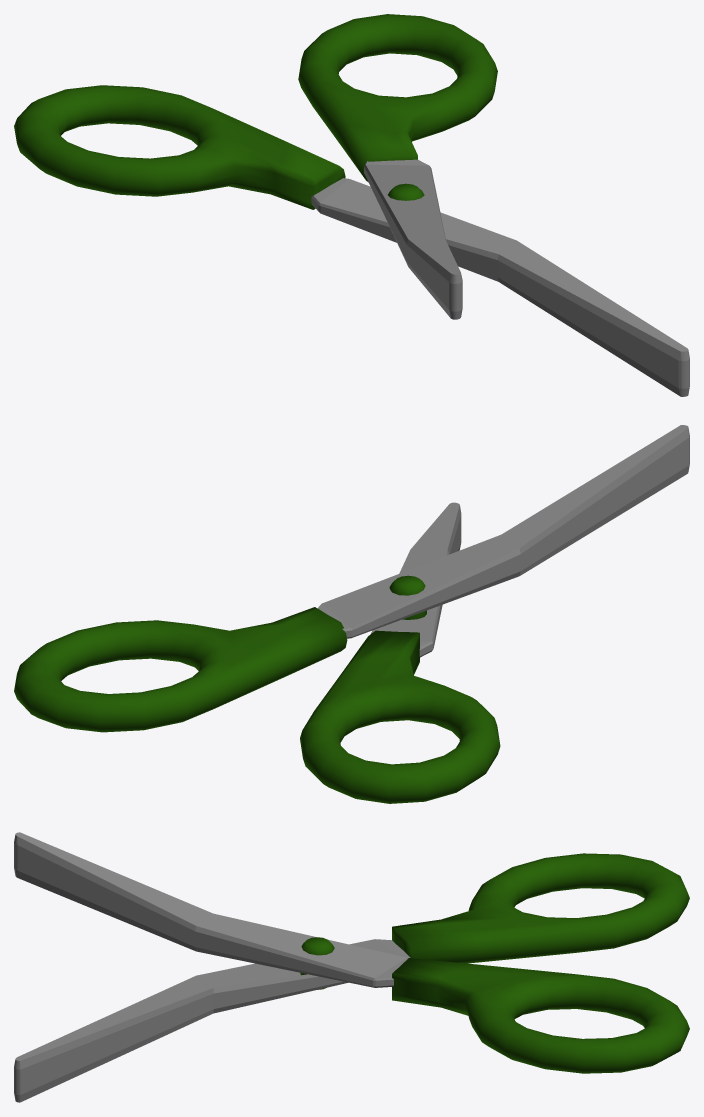
File: ScissorBroken.fbx
The picture shows the model from 3 angles, top to bottom: view 1: azimuth 30°, elevation 25°; view 2: azimuth 150°, elevation 25°; view 3: azimuth 270°, elevation 25°; orthographic projection. The views are drawn at different scales.
Visible parts, largest first — view 1: Handle, BladeBended; view 2: Handle, BladeBended, knobBigger; view 3: Handle, BladeBended, knobBigger.
Part boxes in pixels (left/top/right/bottom): Handle: left=14, top=14, right=497, bottom=209; BladeBended: left=311, top=159, right=689, bottom=396; Handle: left=14, top=607, right=500, bottom=803; BladeBended: left=317, top=425, right=689, bottom=657; knobBigger: left=389, top=575, right=426, bottom=619; Handle: left=392, top=853, right=689, bottom=1073; BladeBended: left=14, top=832, right=410, bottom=1102; knobBigger: left=300, top=937, right=334, bottom=989.
Bounding box in the file's own units: 46.33 × 17.56 × 65.64.
